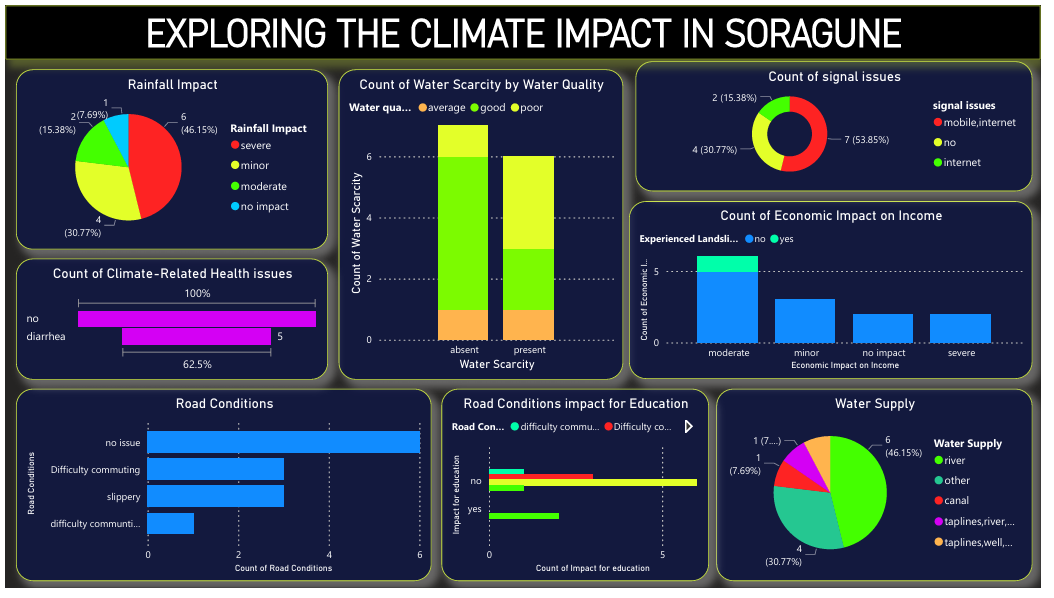

The dashboard page shown, as its layout file describes it:
{"tool":"powerbi","page":{"name":"Page 1","canvas":[1280,720],"ordinal":0},"visuals":[{"type":"pieChart","title":"Rainfall Impact","fields":{"Category":["Sheet3.Rainfall Impact"],"Y":["CountNonNull(Sheet3.Rainfall Impact)"]},"box":[12.5,78.6,386.2,223.3],"z":0},{"type":"columnChart","title":"Count of Water Scarcity by Water Quality","fields":{"Category":["Sheet3.Water Scarcity"],"Y":["CountNonNull(Sheet3.Water Scarcity)"],"Series":["Sheet3.Water quality"]},"box":[412.4,78.6,352,383.9],"z":1000},{"type":"pieChart","title":"Water Supply","fields":{"Category":["Sheet3.Water Supply"],"Y":["CountNonNull(Sheet3.Water Supply)"]},"box":[879.5,473.9,390.8,238.1],"z":2000},{"type":"barChart","title":"Road Conditions ","fields":{"Category":["Sheet3.Road Conditions"],"Y":["CountNonNull(Sheet3.Road Conditions)"]},"box":[12.5,473.9,514.9,238.1],"z":3000},{"type":"funnel","title":"Count of Climate-Related Health issues ","fields":{"Category":["Sheet3.Climate-Related Health issues"],"Y":["CountNonNull(Sheet3.Climate-Related Health issues)"]},"box":[12.5,313.3,386.2,149.2],"z":4000},{"type":"clusteredBarChart","title":"Road Conditions impact for Education","fields":{"Category":["Sheet3.Impact for education"],"Y":["CountNonNull(Sheet3.Impact for education)"],"Series":["Sheet3.Road Conditions"]},"box":[538.9,473.9,331.5,238.1],"z":5000},{"type":"columnChart","title":"Count of Economic Impact on Income ","fields":{"Category":["Sheet3.Economic Impact on Income"],"Y":["CountNonNull(Sheet3.Economic Impact on Income)"],"Series":["Sheet3.Experienced Landslides or Floods"]},"box":[770.8,242.2,499.6,220.2],"z":6000},{"type":"donutChart","title":"Count of signal issues ","fields":{"Category":["Sheet3.signal issues"],"Y":["CountNonNull(Sheet3.signal issues)"]},"box":[779,68.8,491.4,161],"z":7000},{"type":"textbox","box":[0,0,1279.6,66.9],"z":8000}]}

Visuals, with their boxes in screenshot pixels (x1, y1, x2, y2), scaled from the page's 1280x720 canvas onto the 1054x598 screenshot:
"Rainfall Impact" pieChart: 10:65:328:251
"Count of Water Scarcity by Water Quality" columnChart: 340:65:629:384
"Water Supply" pieChart: 724:394:1046:591
"Road Conditions " barChart: 10:394:434:591
"Count of Climate-Related Health issues " funnel: 10:260:328:384
"Road Conditions impact for Education" clusteredBarChart: 444:394:717:591
"Count of Economic Impact on Income " columnChart: 635:201:1046:384
"Count of signal issues " donutChart: 641:57:1046:191
textbox: 0:0:1053:56
